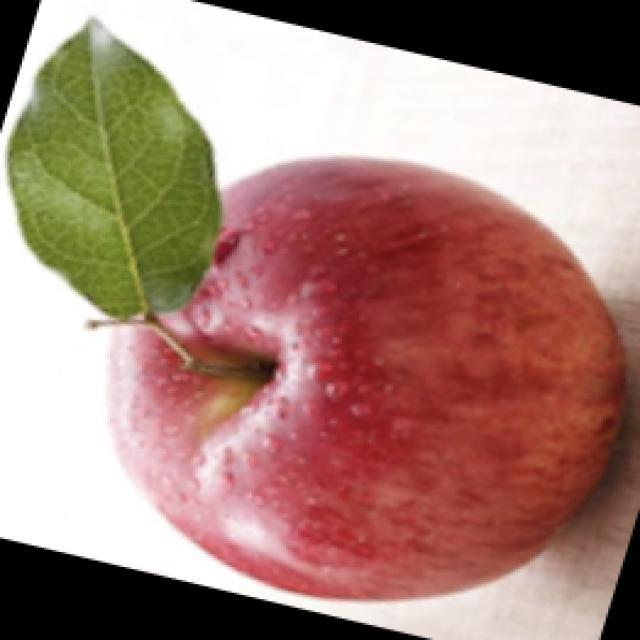Fresh Apple: (95, 135, 628, 612)
